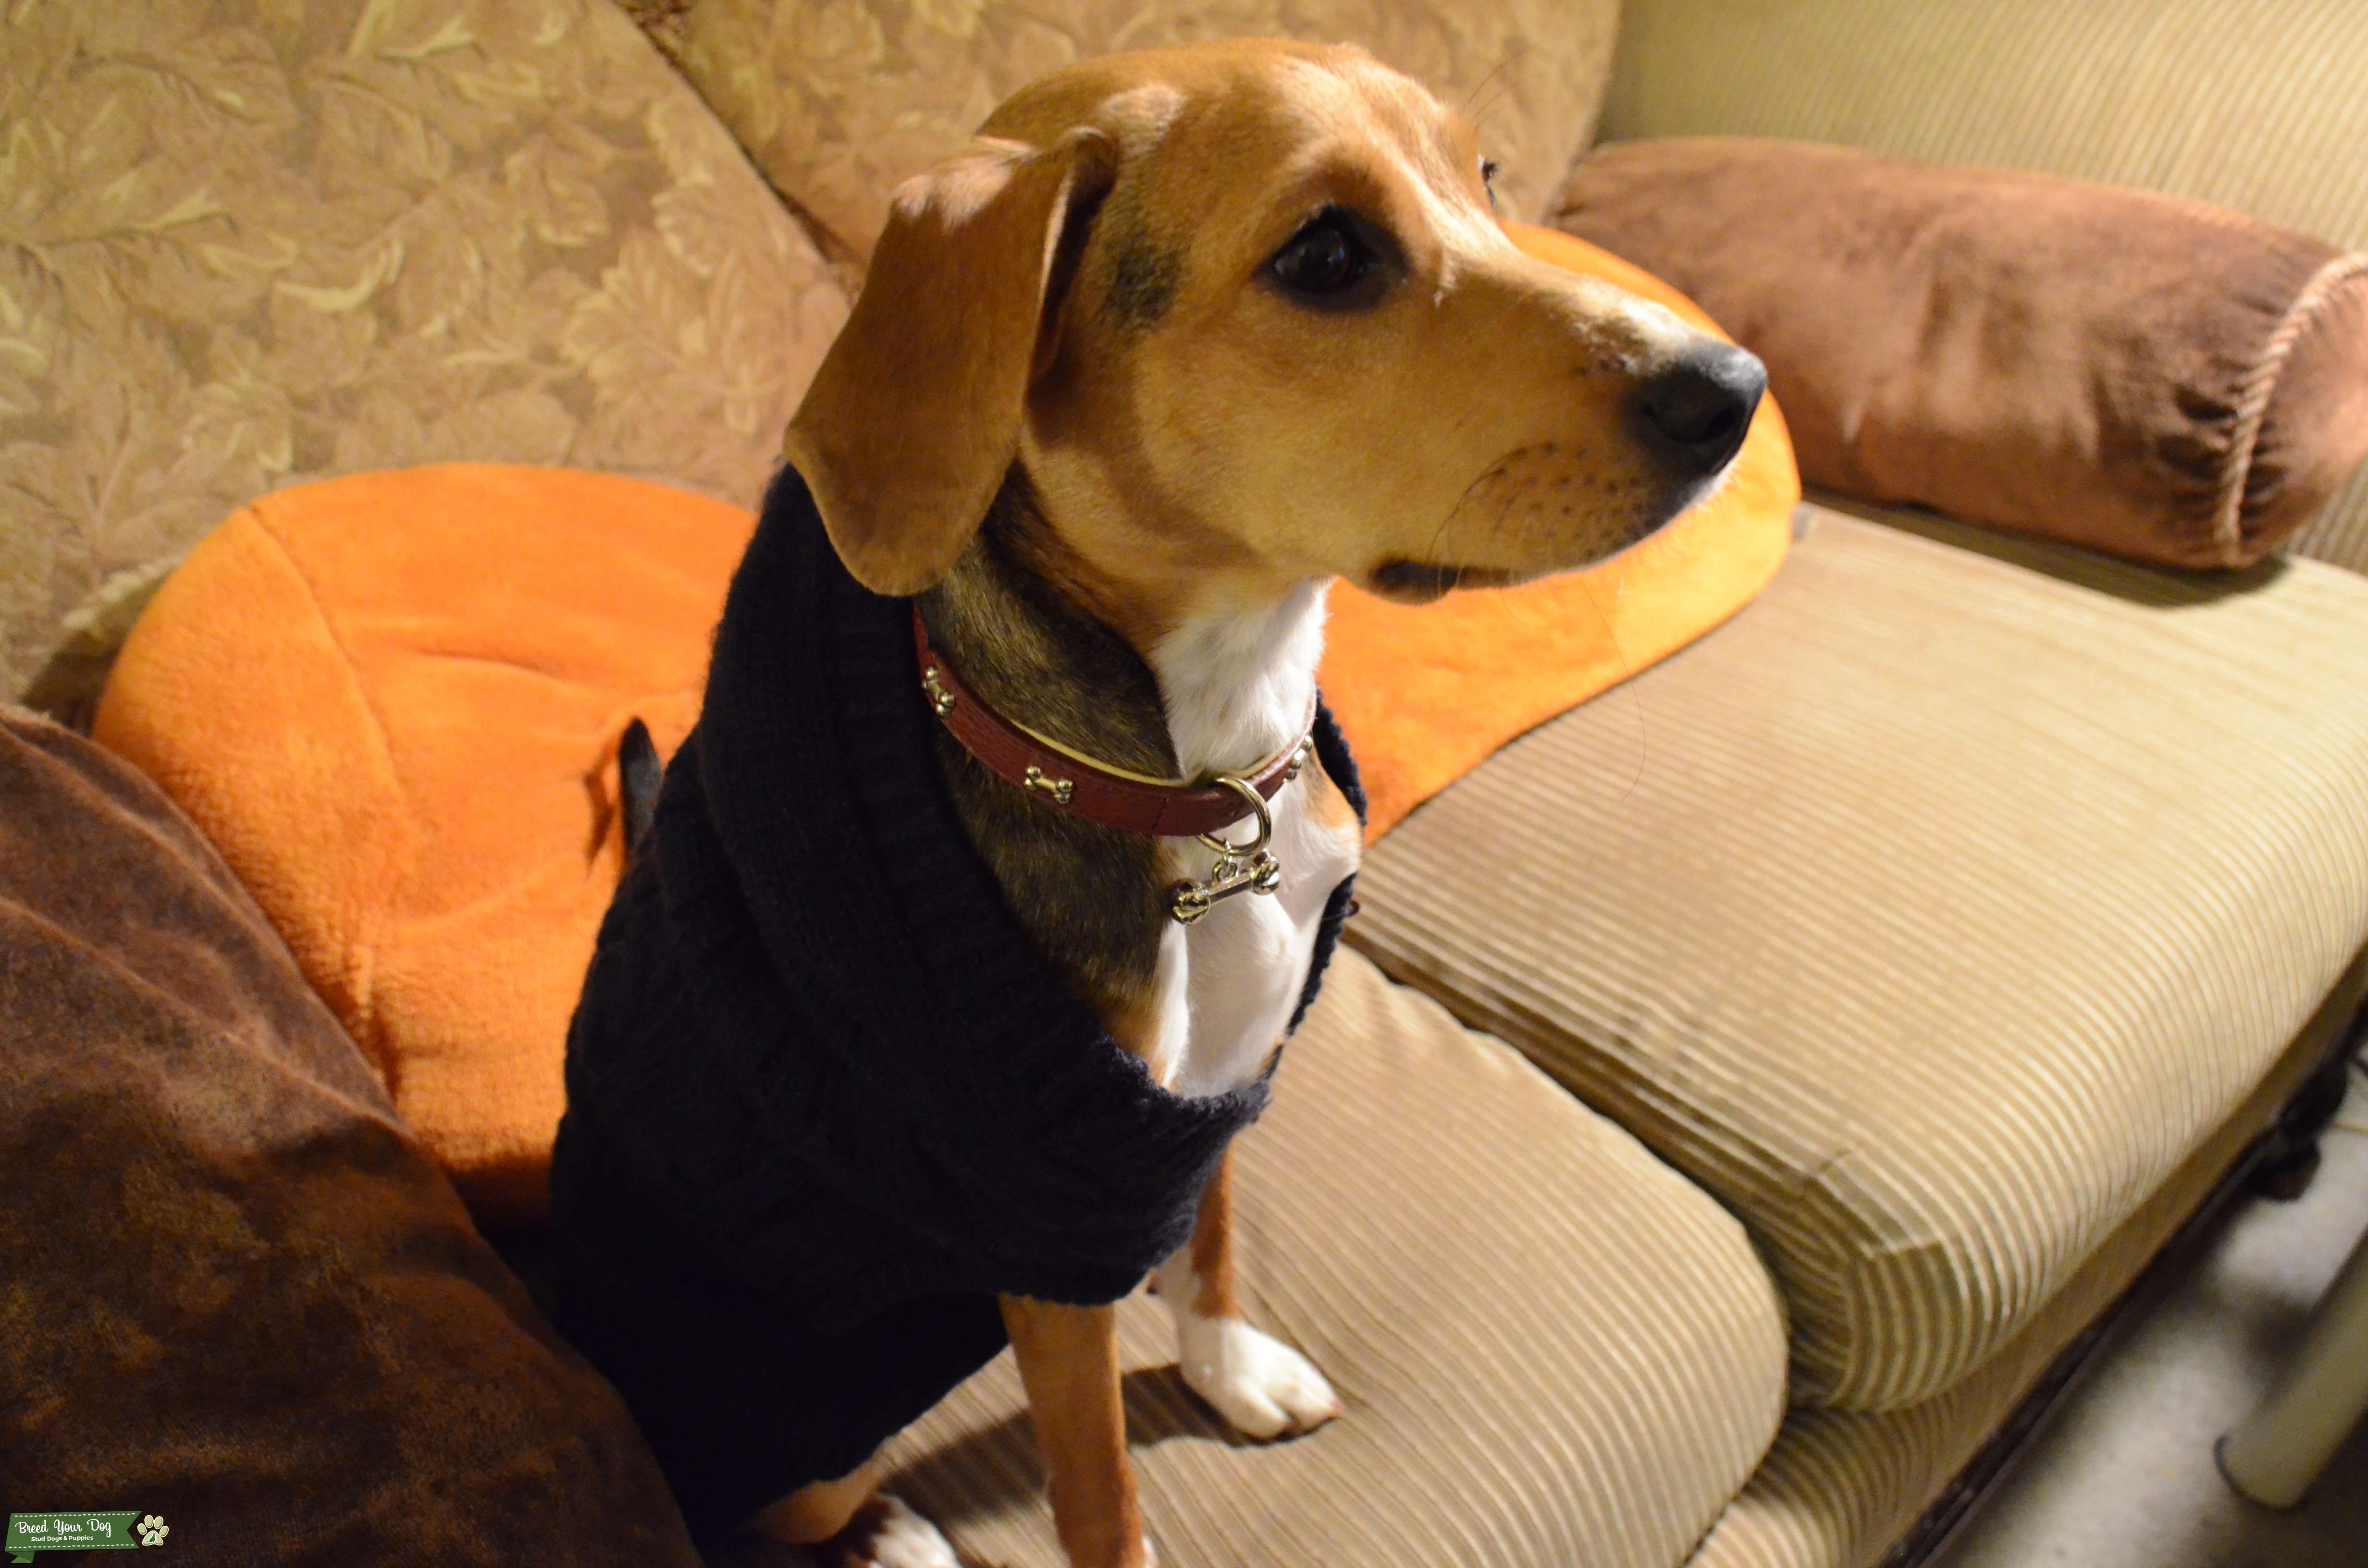dog: (571, 80, 1785, 1535)
